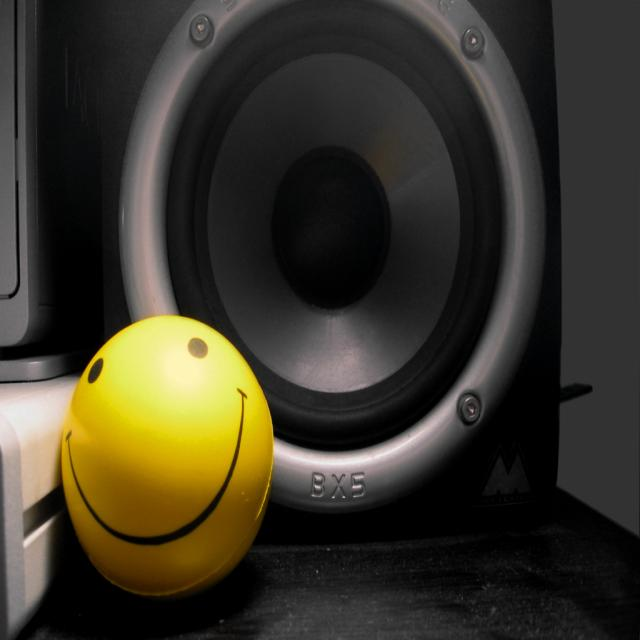Ball: (61, 315, 274, 600)
